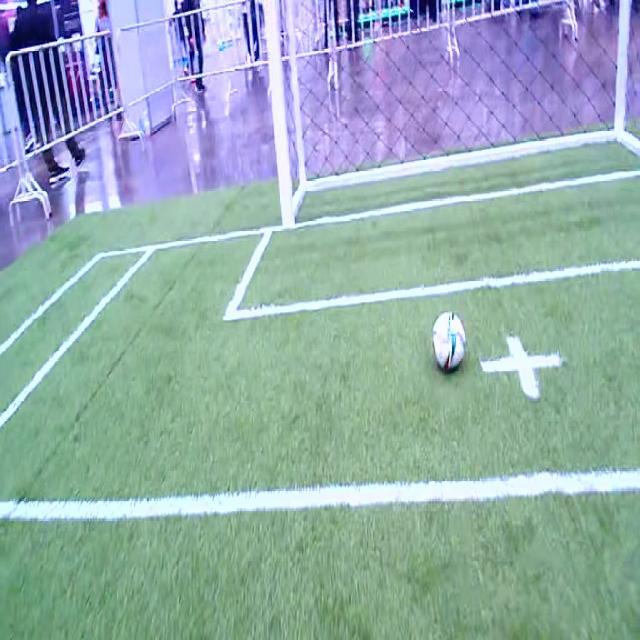ball: (433, 312, 465, 371)
